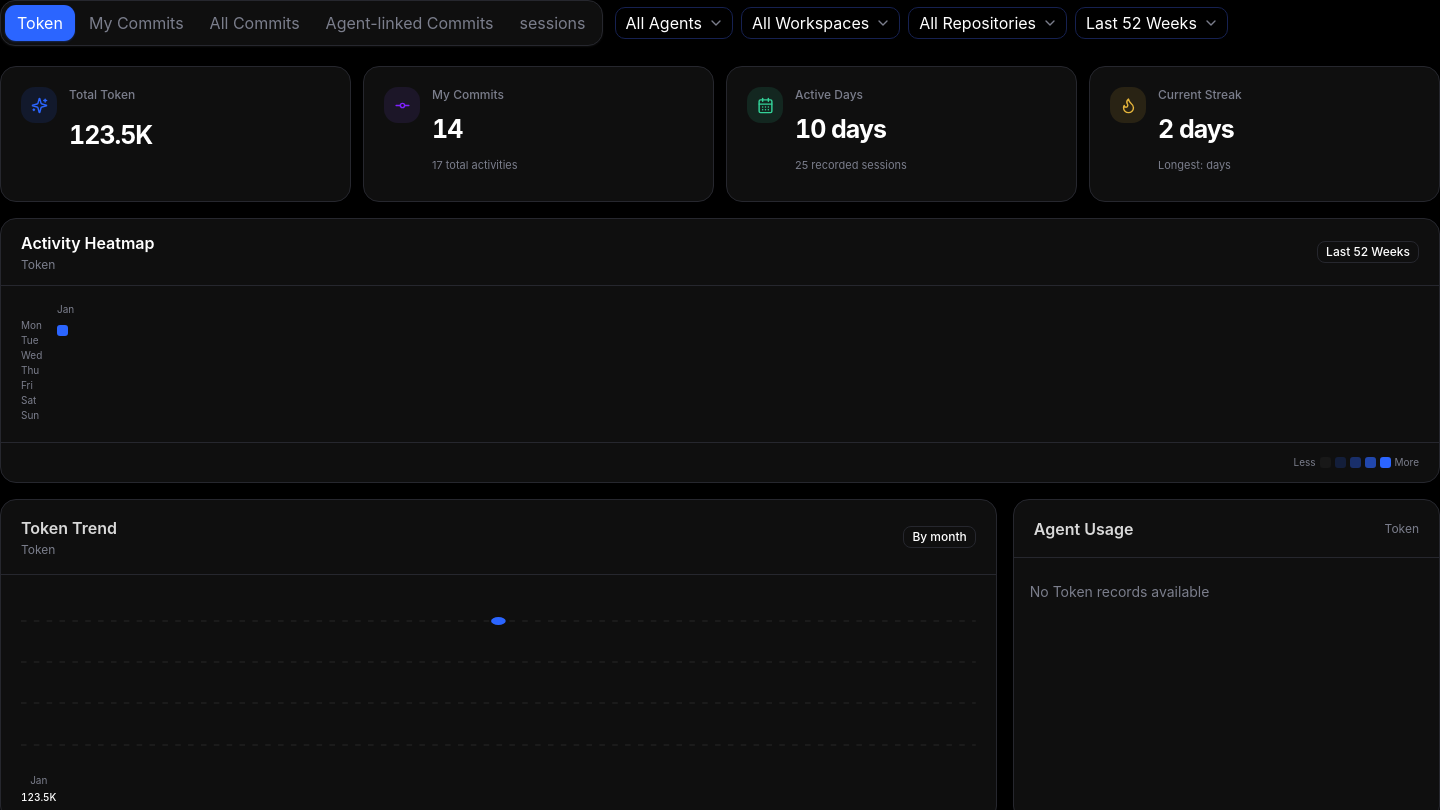
Test: InsightsPage filters › keeps purpose names stable while the selected range changes
Click the dropdown named "Time range".
click(1151, 23)  # box [1075,7,1228,39]
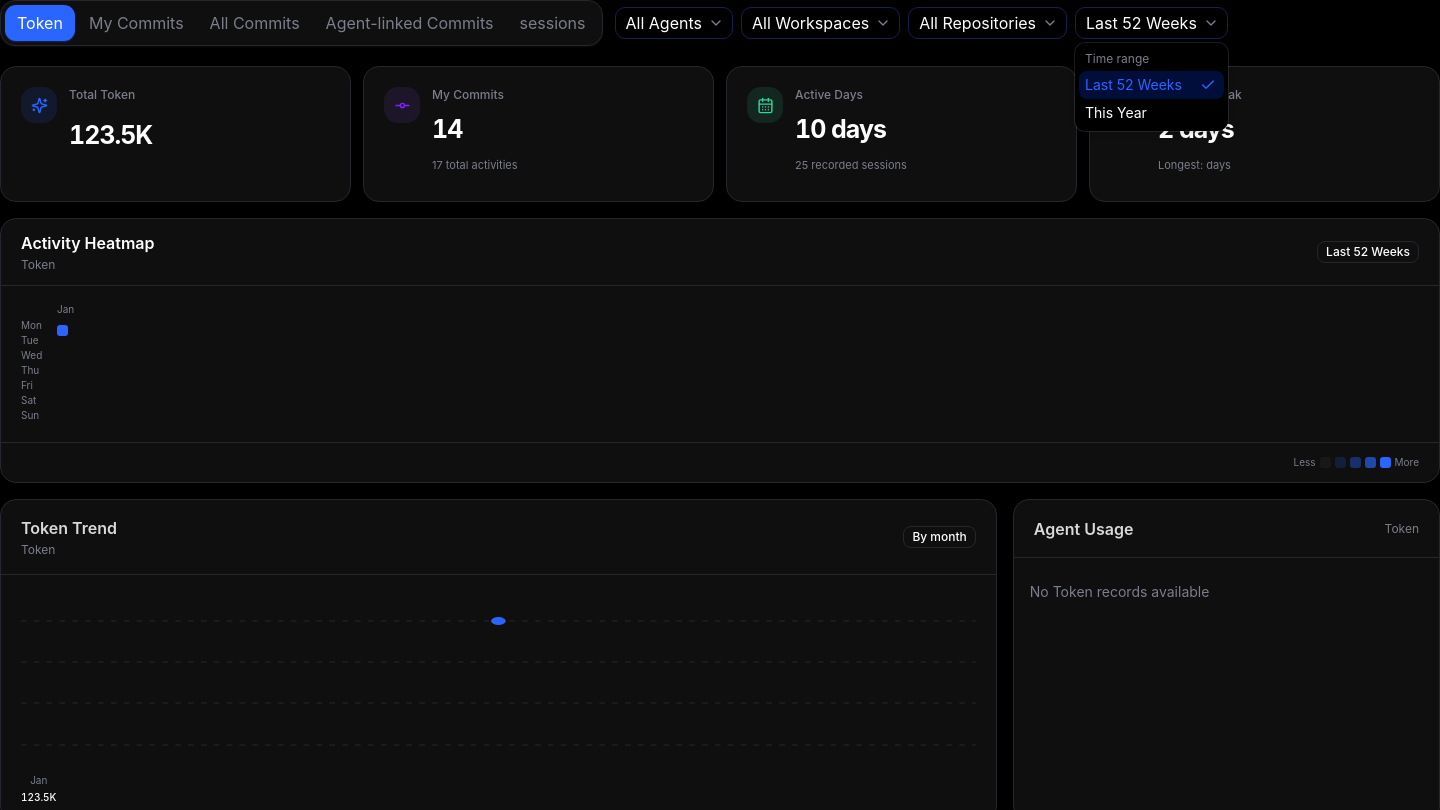
Click the option "This Year".
click(1116, 112)  # box [1085,104,1147,121]
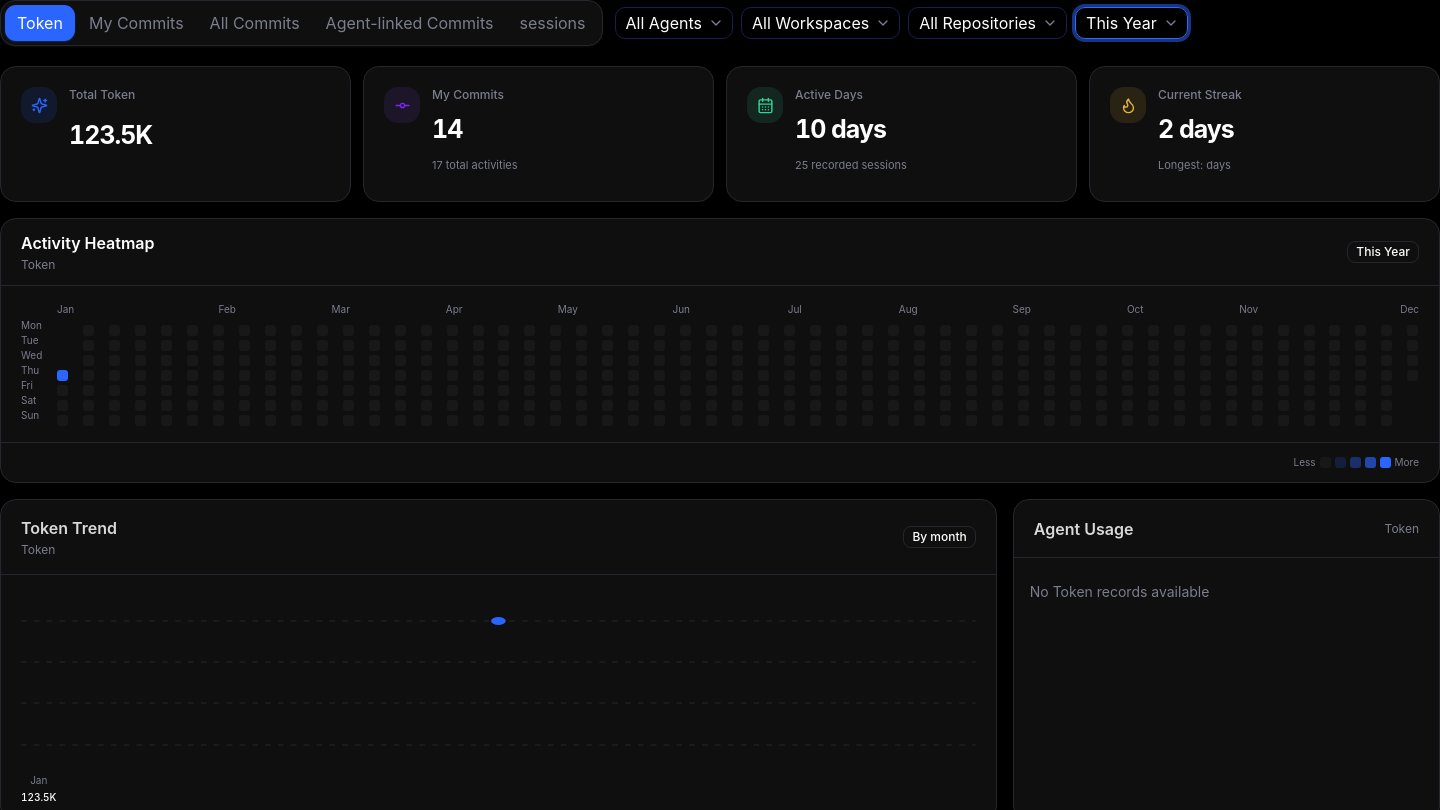
Expected: the dropdown named "Agent filter" is shown, [614,7,733,39]
Result: the dropdown named "Time range" shows "This Year" at [1075,7,1188,39]
